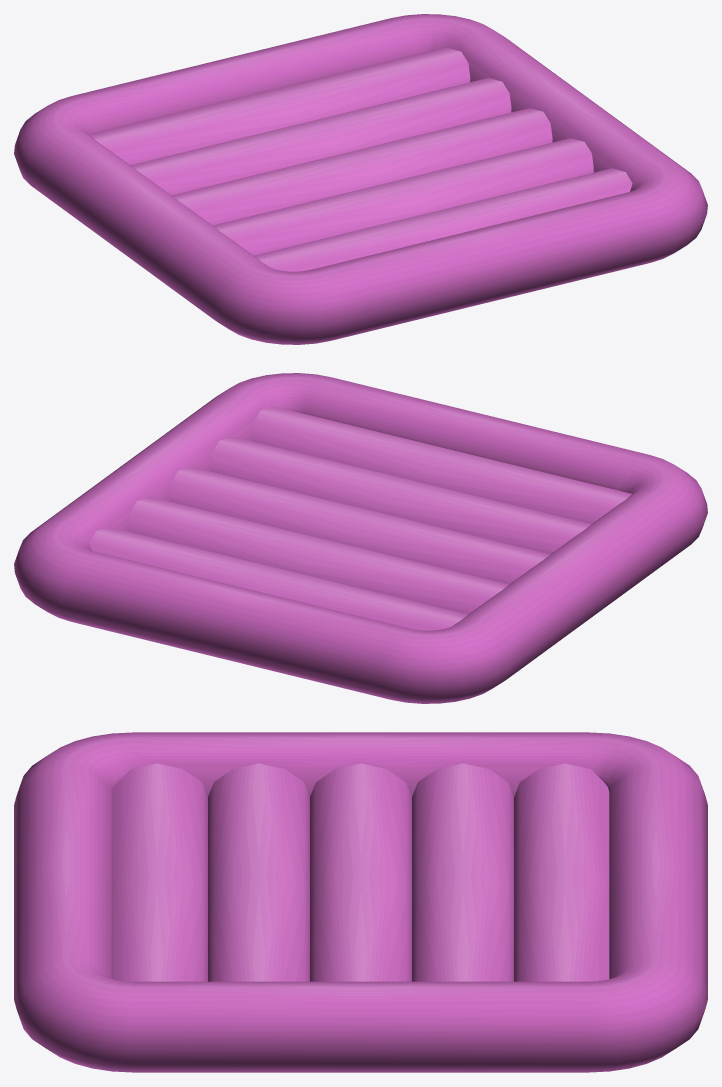
The model's file is tube_cube_pink.fbx.
The picture shows the model from 3 angles, top to bottom: view 1: azimuth 30°, elevation 25°; view 2: azimuth 150°, elevation 25°; view 3: azimuth 270°, elevation 25°; orthographic projection. The views are drawn at different scales.
Visible parts, largest first — view 1: tube_cube_pink; view 2: tube_cube_pink; view 3: tube_cube_pink.
Part boxes in pixels (x1,y1,x2,y2): tube_cube_pink: (14, 14, 707, 344); tube_cube_pink: (14, 373, 707, 703); tube_cube_pink: (14, 732, 707, 1072).
Bounding box in the file's own units: 80 × 10.09 × 80.
